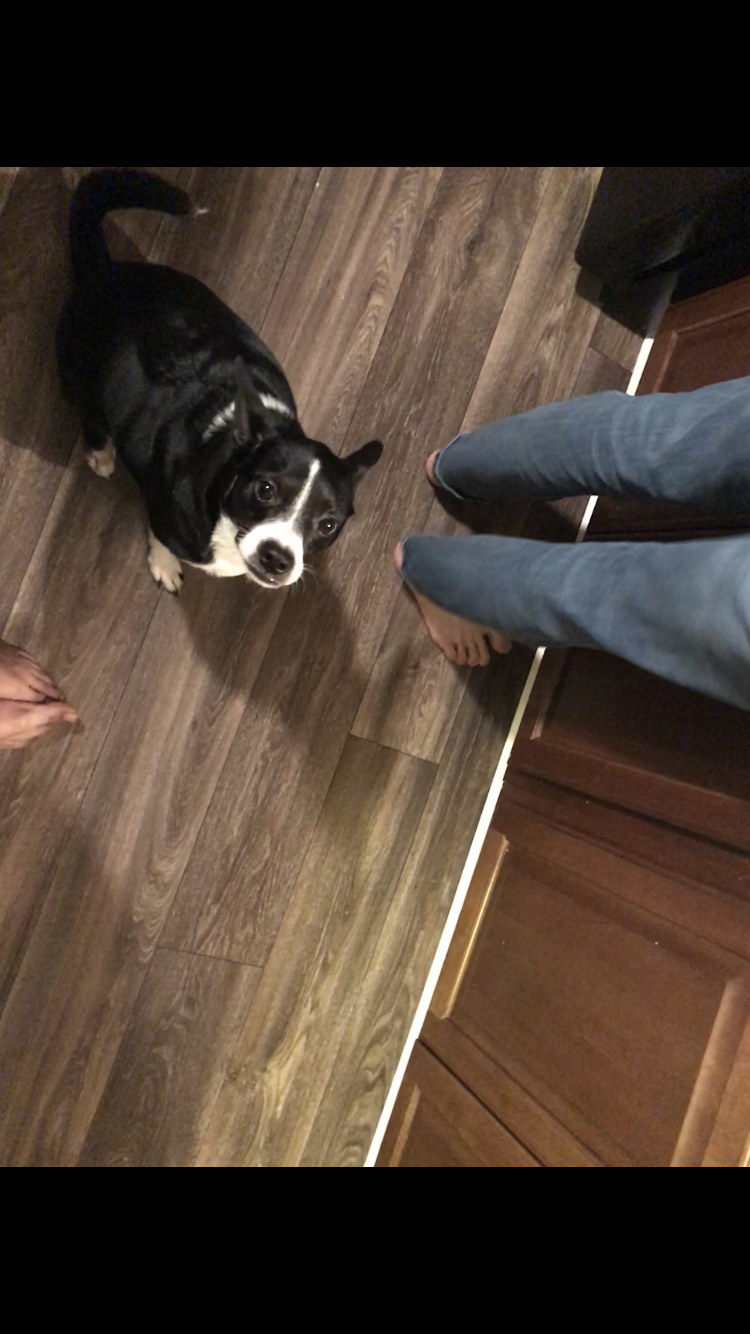Harley: (39, 164, 395, 595)
